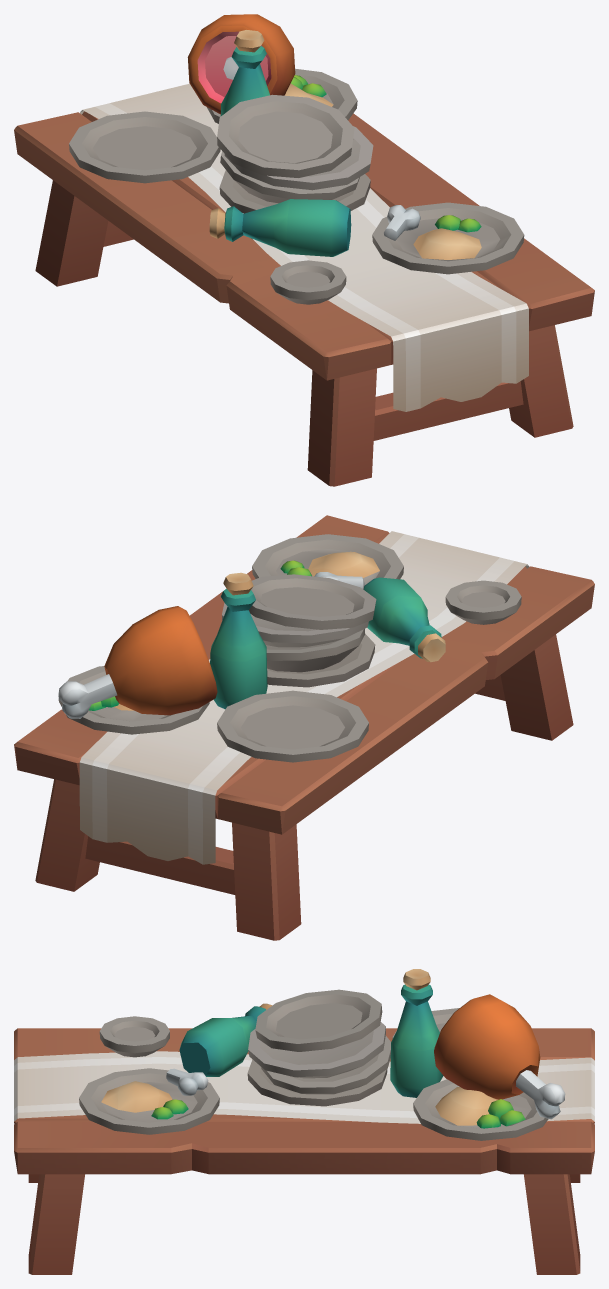
The model's file is table_long_tablecloth_decorated_A.obj.
3 views of the same model, one above another, from view 1: azimuth 30°, elevation 25°; view 2: azimuth 150°, elevation 25°; view 3: azimuth 270°, elevation 25° (orthographic). The views are drawn at different scales.
Parts seen in each view (by area): view 1: table_long_tablecloth_decorated_A; view 2: table_long_tablecloth_decorated_A; view 3: table_long_tablecloth_decorated_A.
Part boxes in pixels (x1,y1,x2,y2): table_long_tablecloth_decorated_A: [14, 14, 594, 486]; table_long_tablecloth_decorated_A: [14, 515, 594, 940]; table_long_tablecloth_decorated_A: [14, 969, 594, 1274].
Bounding box in the file's own units: 2.06 × 1.89 × 4.
1 material, 1 textured.
